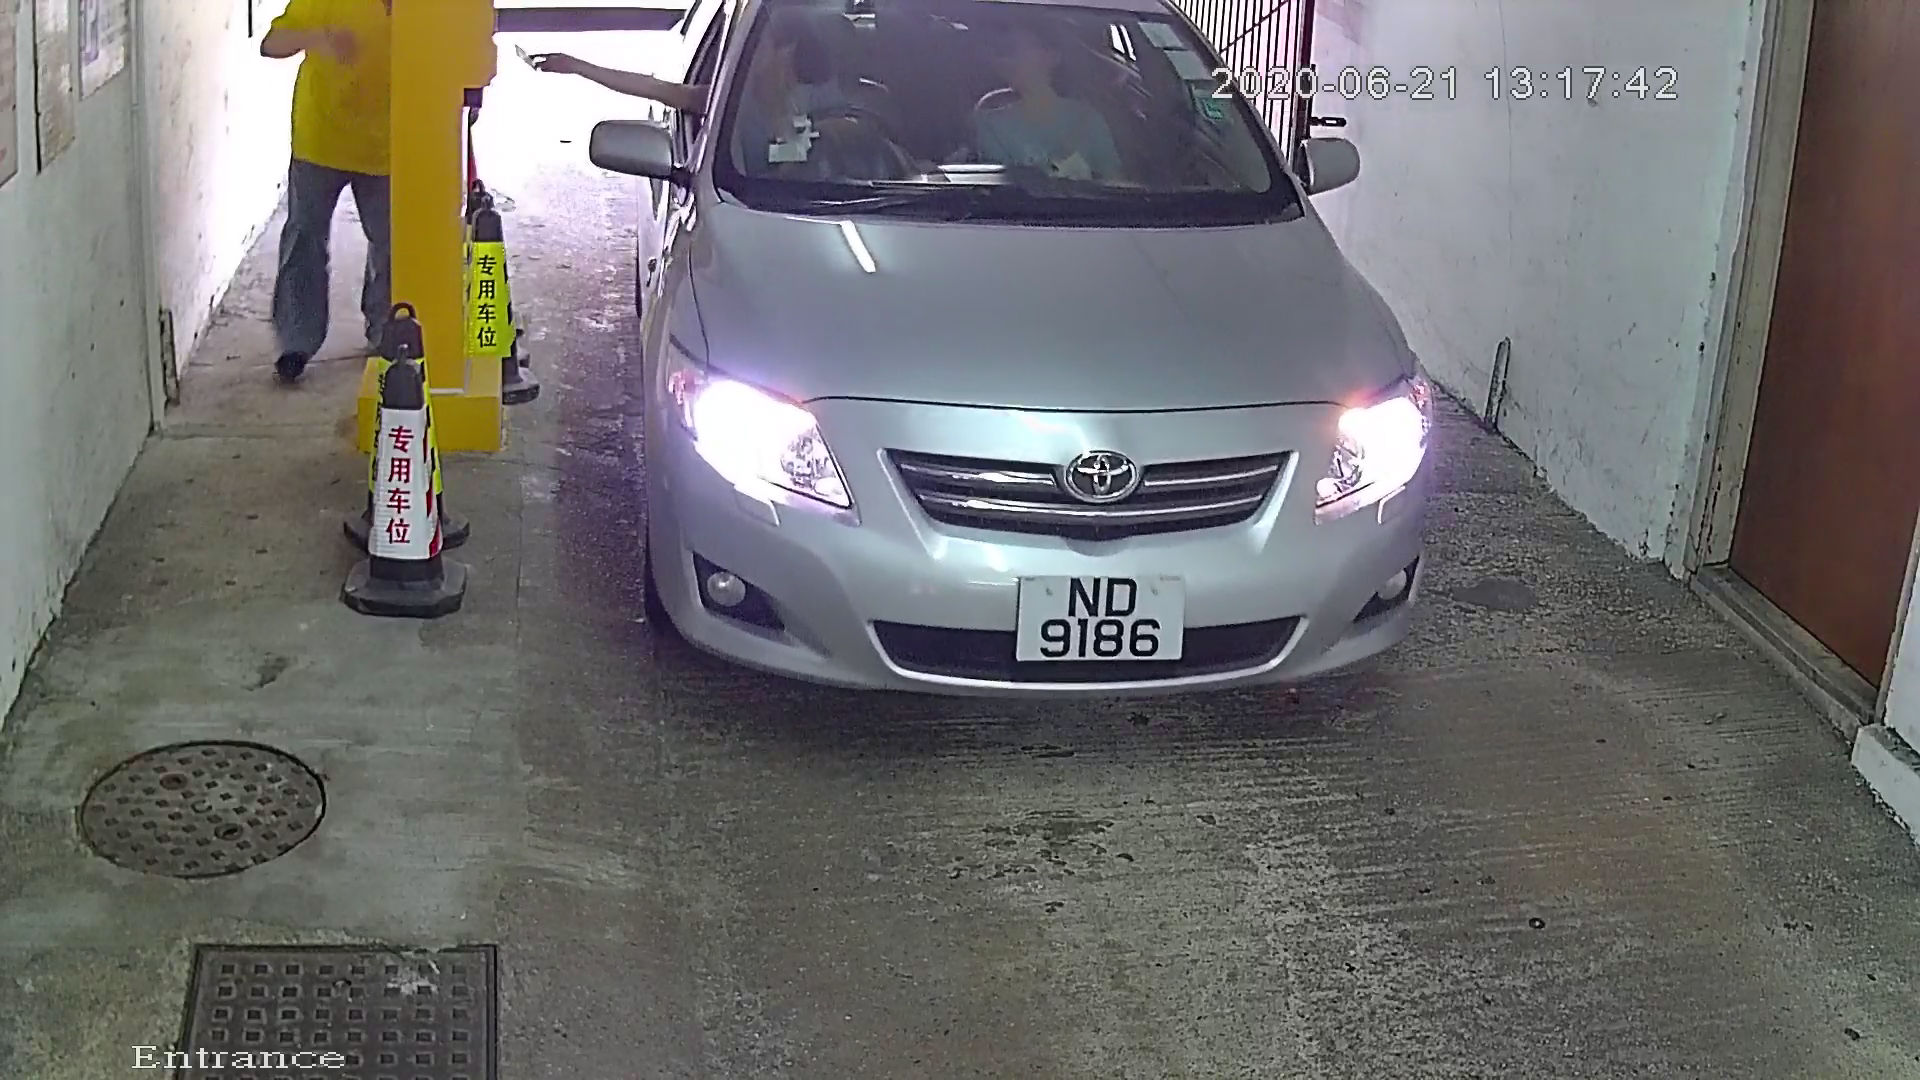privatecar: (560, 3, 1472, 787)
